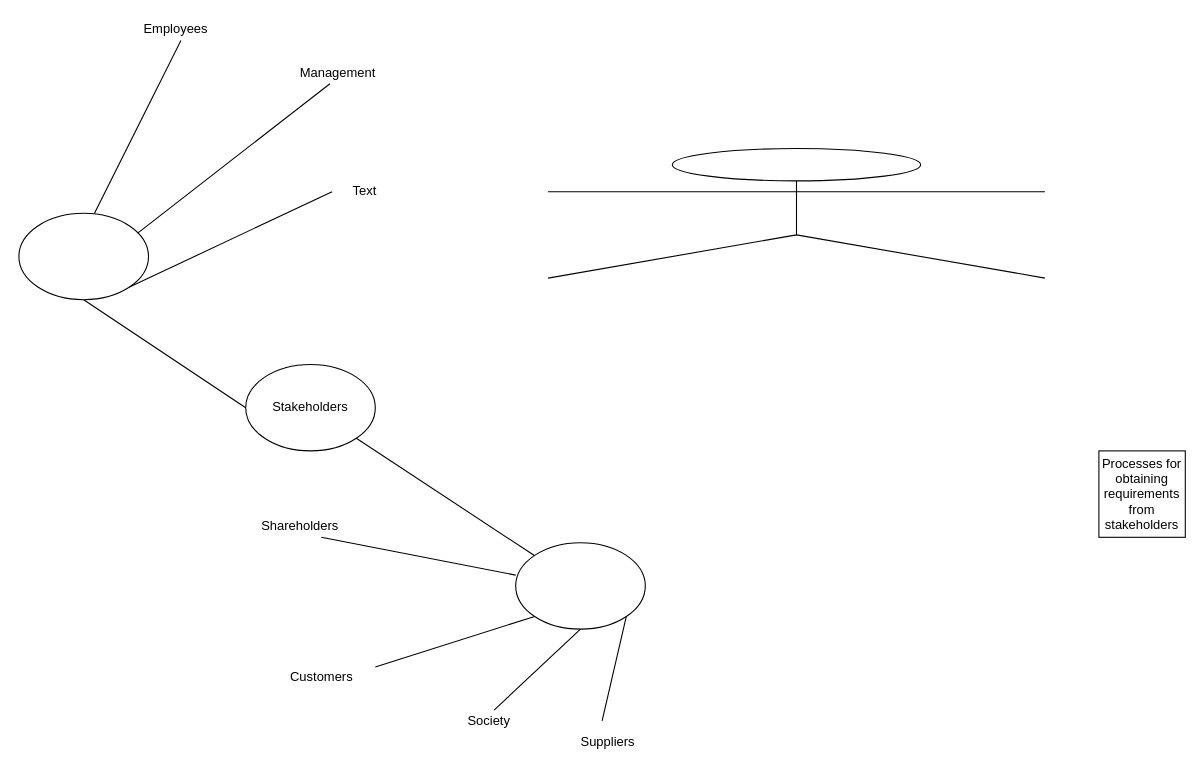
The diagram is 1204 pixels wide and 771 high, and some of its shapes have lost their labels. Each missing label, with the centre of its shape:
External: (x=580, y=585)
Internal: (x=83, y=256)
